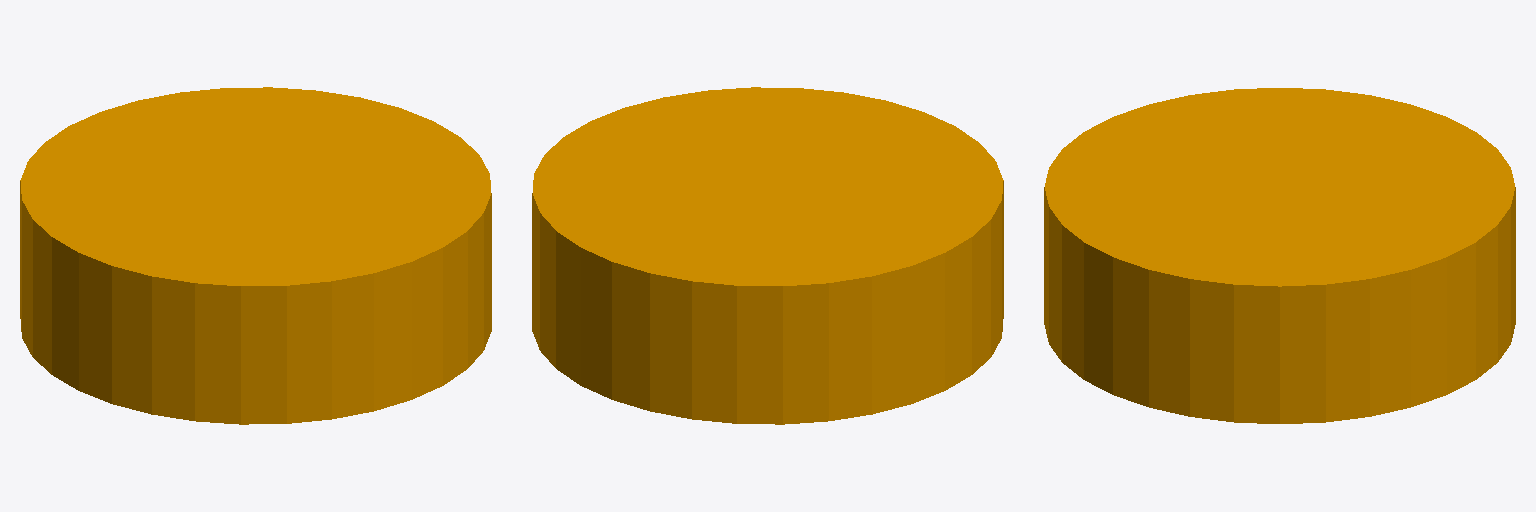
URDF robot description (miranda_underact_2v2_cylinder_medium):
<?xml version="1.0" ?>
<robot name="miranda_underact_2v2_cylinder_medium">

    <link name="miranda_underact_2v2_cylinder_medium">
        <visual>
            <origin rpy="1.5707963267948966 0 0" xyz="0 0 0"/>
            <geometry>
                <mesh filename="obj_files/miranda_underact_2v2_cylinder_medium.obj" scale="1 1 1"/>
            </geometry>
        </visual>
        <collision>
            <geometry>
                <mesh filename="obj_files/miranda_underact_2v2_cylinder_medium_collision.obj" scale="1 1 1"/>
            </geometry>
        </collision>
    </link>

</robot>

--- Render facts (derived) ---
Views: 3 orthographic renders of the robot side by side, from view 1: azimuth 30°, elevation 25°; view 2: azimuth 150°, elevation 25°; view 3: azimuth 270°, elevation 25°.
Robot: miranda_underact_2v2_cylinder_medium — 1 links, 0 joints (none); root link miranda_underact_2v2_cylinder_medium; default pose: every joint at zero.
Links seen in each view (by area): view 1: miranda_underact_2v2_cylinder_medium; view 2: miranda_underact_2v2_cylinder_medium; view 3: miranda_underact_2v2_cylinder_medium.
Link boxes in pixels (<box>): miranda_underact_2v2_cylinder_medium: <box>20,87,491,424</box>; miranda_underact_2v2_cylinder_medium: <box>532,87,1003,424</box>; miranda_underact_2v2_cylinder_medium: <box>1044,88,1515,423</box>.
Bounding box of the posed robot: 0.2972 × 0.2972 × 0.096 m (x, y, z).
1 mesh visuals loaded from 1 distinct referenced files (1 OBJ).
